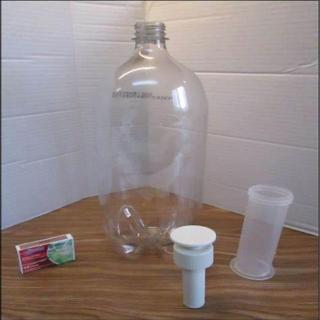Plastic-bottle: (90, 12, 208, 274)
